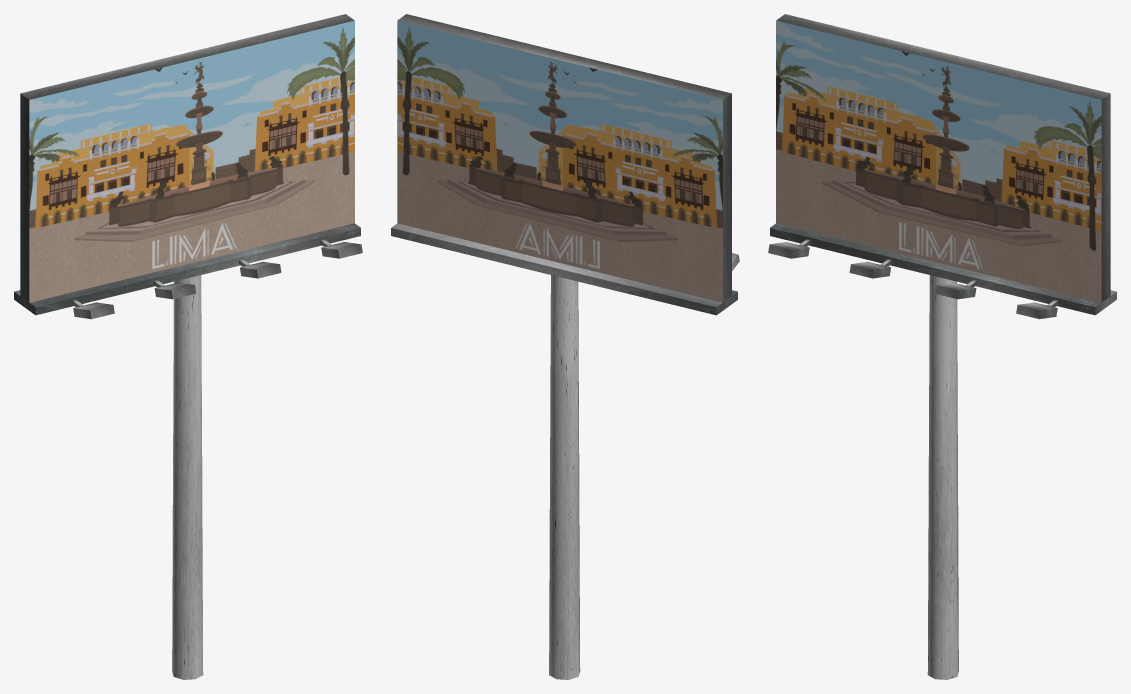
Rendered from PROP_Letrero.fbx.
3 views of the same model, side by side, from view 1: azimuth 30°, elevation 25°; view 2: azimuth 150°, elevation 25°; view 3: azimuth 330°, elevation 25° (orthographic).
Parts seen in each view (by area): view 1: Cylinder001; view 2: Cylinder001; view 3: Cylinder001.
Boxes of the visible parts, bbox=[...] form: Cylinder001: bbox=[14, 14, 362, 679]; Cylinder001: bbox=[391, 14, 739, 679]; Cylinder001: bbox=[768, 14, 1116, 679].
Bounding box in the file's own units: 82.68 × 150 × 22.16.
